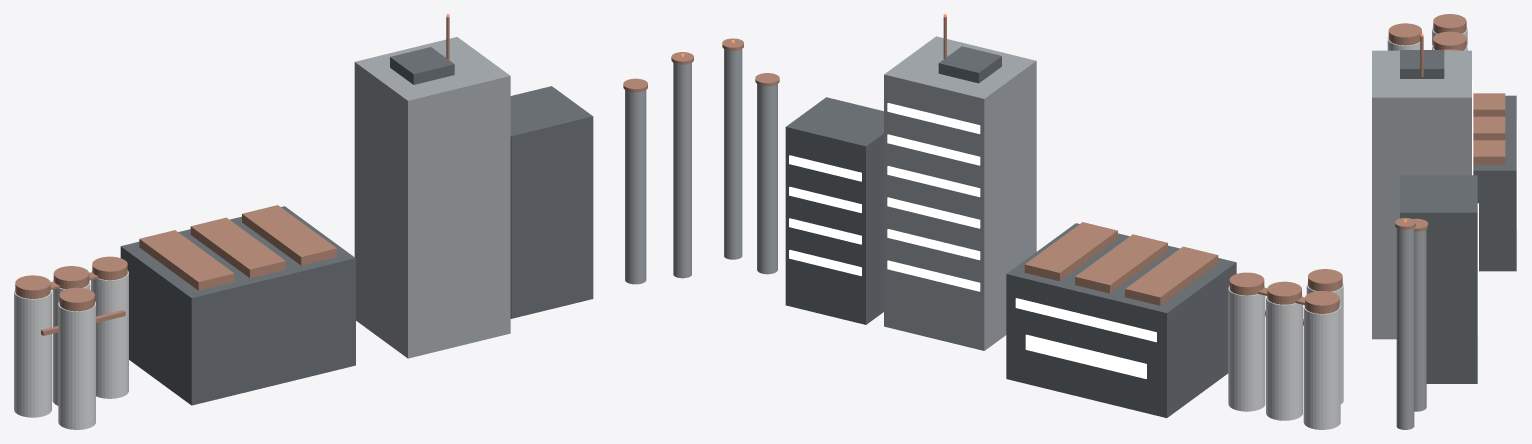
Rendered from harbor_city_backdrop.glb.
3 renders of one model, left to right at view 1: azimuth 30°, elevation 25°; view 2: azimuth 150°, elevation 25°; view 3: azimuth 270°, elevation 25°, orthographic. The views are drawn at different scales.
Visible parts, largest first — view 1: Skyscraper_1_Body, Depot_Main_Body, Skyscraper_2_Body, Silo_Tank_3, Silo_Tank_0, Chimney_1, Chimney_2, Silo_Tank_2, Roof_Vent_-10.0, Roof_Vent_0.0, Roof_Vent_10.0, Tower1_Roof_HVAC (+5 smaller); view 2: Skyscraper_1_Body, Depot_Main_Body, Skyscraper_2_Body, Silo_Tank_0, Silo_Tank_2, Silo_Tank_1, Chimney_2, Chimney_1, Roof_Vent_10.0, Roof_Vent_-10.0, Roof_Vent_0.0, Depot_Office_Windows (+16 smaller); view 3: Skyscraper_1_Body, Skyscraper_2_Body, Depot_Main_Body, Chimney_2, Chimney_1, Tower1_Roof_HVAC, Roof_Vent_10.0, Roof_Vent_0.0, Roof_Vent_-10.0, Silo_Dome_3, Silo_Dome_0, Silo_Dome_1 (+4 smaller).
Part boxes in pixels (x1,y1,x2,y2): Skyscraper_1_Body: (354, 37, 510, 358); Depot_Main_Body: (120, 206, 355, 405); Skyscraper_2_Body: (510, 86, 593, 318); Silo_Tank_3: (58, 301, 95, 429); Silo_Tank_0: (14, 289, 51, 417); Chimney_1: (625, 90, 646, 284); Chimney_2: (673, 63, 691, 278); Silo_Tank_2: (91, 270, 128, 398); Roof_Vent_-10.0: (139, 230, 234, 290); Roof_Vent_0.0: (190, 217, 285, 277); Roof_Vent_10.0: (242, 205, 336, 265); Tower1_Roof_HVAC: (390, 47, 454, 84); Skyscraper_1_Body: (884, 36, 1036, 350); Depot_Main_Body: (1006, 223, 1236, 417); Skyscraper_2_Body: (785, 97, 883, 324); Silo_Tank_0: (1303, 304, 1340, 429); Silo_Tank_2: (1228, 286, 1265, 411); Silo_Tank_1: (1266, 295, 1302, 420); Chimney_2: (724, 49, 742, 259); Chimney_1: (757, 84, 777, 274); Roof_Vent_10.0: (1024, 222, 1117, 281); Roof_Vent_-10.0: (1125, 246, 1218, 305); Roof_Vent_0.0: (1075, 234, 1167, 293); Depot_Office_Windows: (1025, 334, 1146, 378); Skyscraper_1_Body: (1372, 50, 1471, 339); Skyscraper_2_Body: (1400, 175, 1477, 383); Depot_Main_Body: (1473, 95, 1516, 271); Chimney_2: (1396, 228, 1414, 429); Chimney_1: (1414, 229, 1426, 411); Tower1_Roof_HVAC: (1400, 50, 1444, 78); Roof_Vent_10.0: (1473, 140, 1505, 164); Roof_Vent_0.0: (1473, 116, 1505, 140); Roof_Vent_-10.0: (1473, 93, 1505, 116); Silo_Dome_3: (1388, 23, 1421, 45); Silo_Dome_0: (1433, 14, 1466, 33); Silo_Dome_1: (1433, 31, 1466, 50).
Size of the model in its own units: 127 by 57.4 by 26.25.
